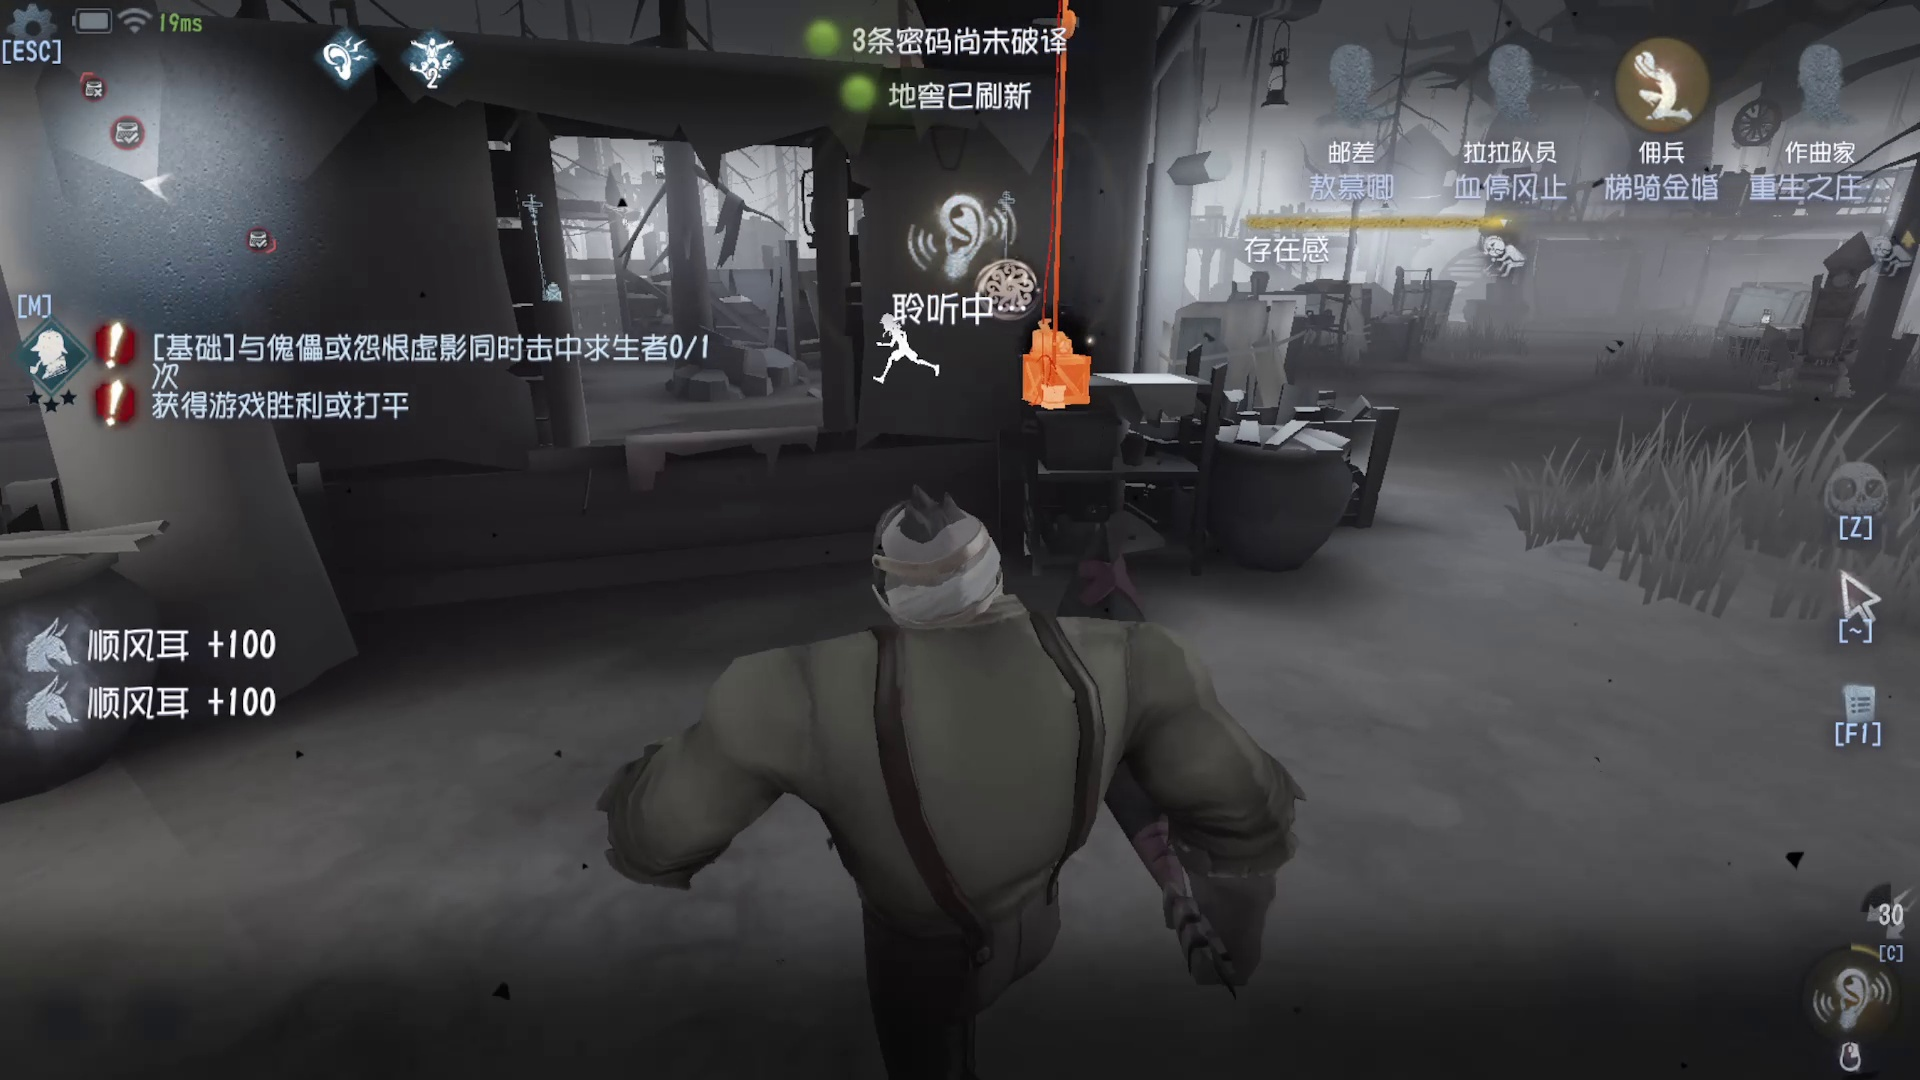密码机: (992, 16, 1105, 469), (504, 182, 621, 367)
求生者: (855, 305, 957, 398)
